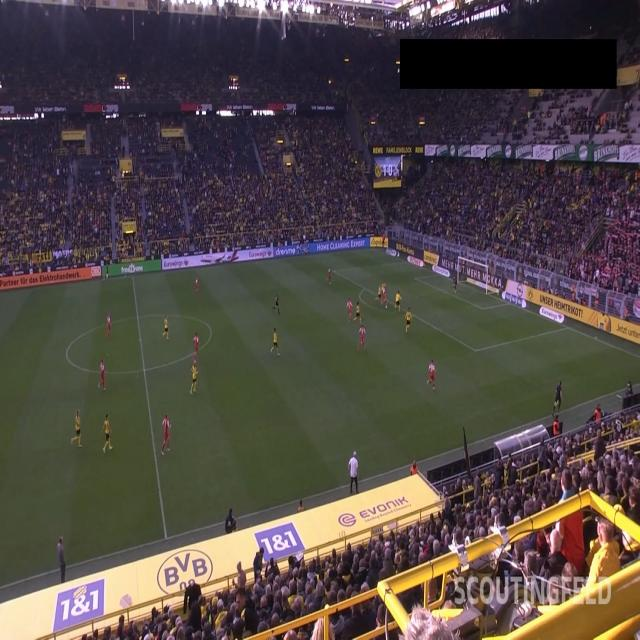ball: (385, 305, 388, 310)
f_player: (160, 412, 172, 457), (101, 412, 113, 454), (70, 408, 82, 449), (188, 359, 199, 396), (426, 359, 438, 392), (270, 327, 280, 357), (192, 332, 201, 364), (98, 359, 106, 391), (404, 306, 413, 334), (352, 300, 362, 324), (394, 290, 403, 314), (162, 314, 170, 340), (360, 325, 368, 349), (375, 284, 383, 306), (346, 298, 353, 323), (381, 283, 388, 306), (105, 312, 111, 338), (326, 266, 333, 286), (452, 274, 458, 294), (194, 276, 200, 294)
umpire: (272, 292, 280, 316)
